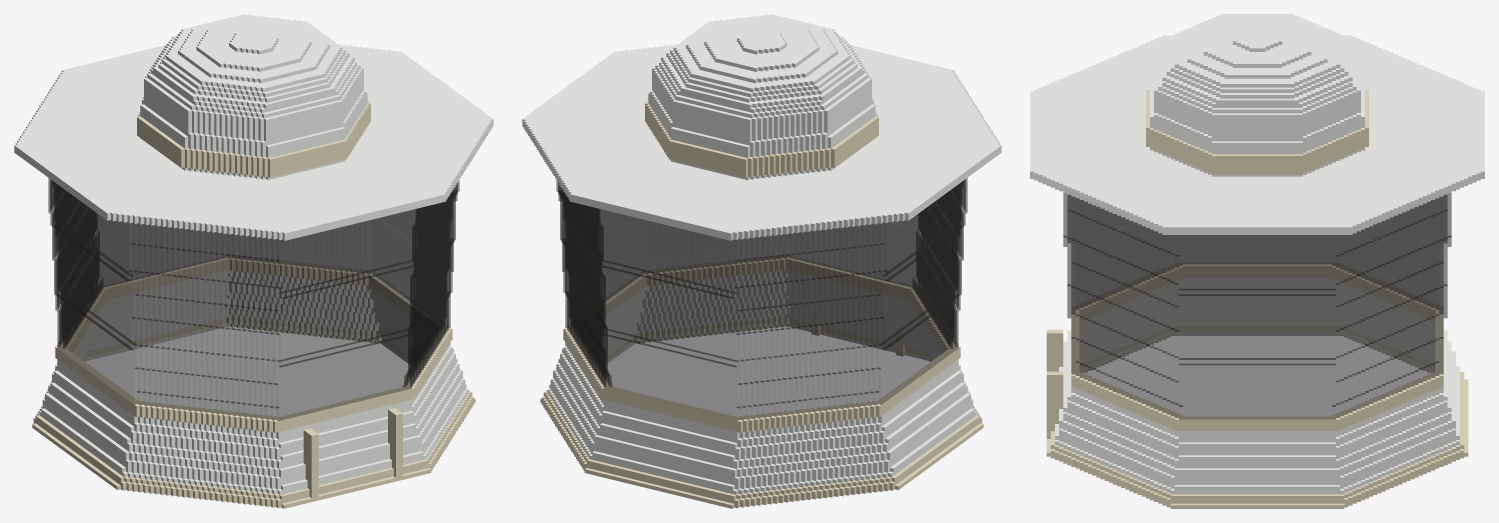
File: beekeeping_hood.glb
The picture shows the model from 3 angles, left to right: view 1: azimuth 30°, elevation 25°; view 2: azimuth 150°, elevation 25°; view 3: azimuth 270°, elevation 25°; orthographic projection.
Parts seen in each view (by area): view 1: beekeeping_hood:compound; view 2: beekeeping_hood:compound; view 3: beekeeping_hood:compound.
Boxes of the visible parts, x1,y1,x2,y2 form: beekeeping_hood:compound: [14, 14, 493, 508]; beekeeping_hood:compound: [522, 14, 1001, 508]; beekeeping_hood:compound: [1030, 14, 1484, 508].
Size of the model in its own units: 0.44 by 0.408 by 0.44.
